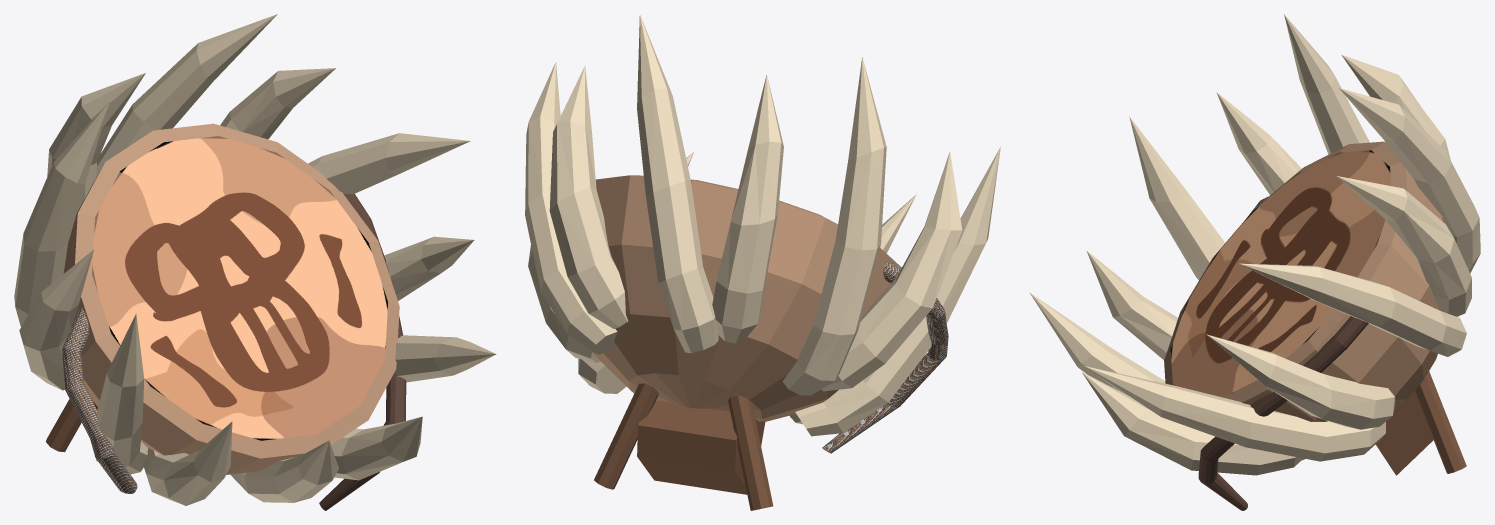
The model's file is SM_wardrum.fbx.
3 renders of one model, left to right at view 1: azimuth 30°, elevation 25°; view 2: azimuth 150°, elevation 25°; view 3: azimuth 270°, elevation 25°, orthographic. The views are drawn at different scales.
Parts seen in each view (by area): view 1: wardrum; view 2: wardrum; view 3: wardrum.
Part boxes in pixels (box(x1,y1,x2,y2)): wardrum: box(14, 14, 496, 510); wardrum: box(525, 15, 1000, 510); wardrum: box(1029, 14, 1480, 510).
Bounding box in the file's own units: 222 × 230 × 221.
